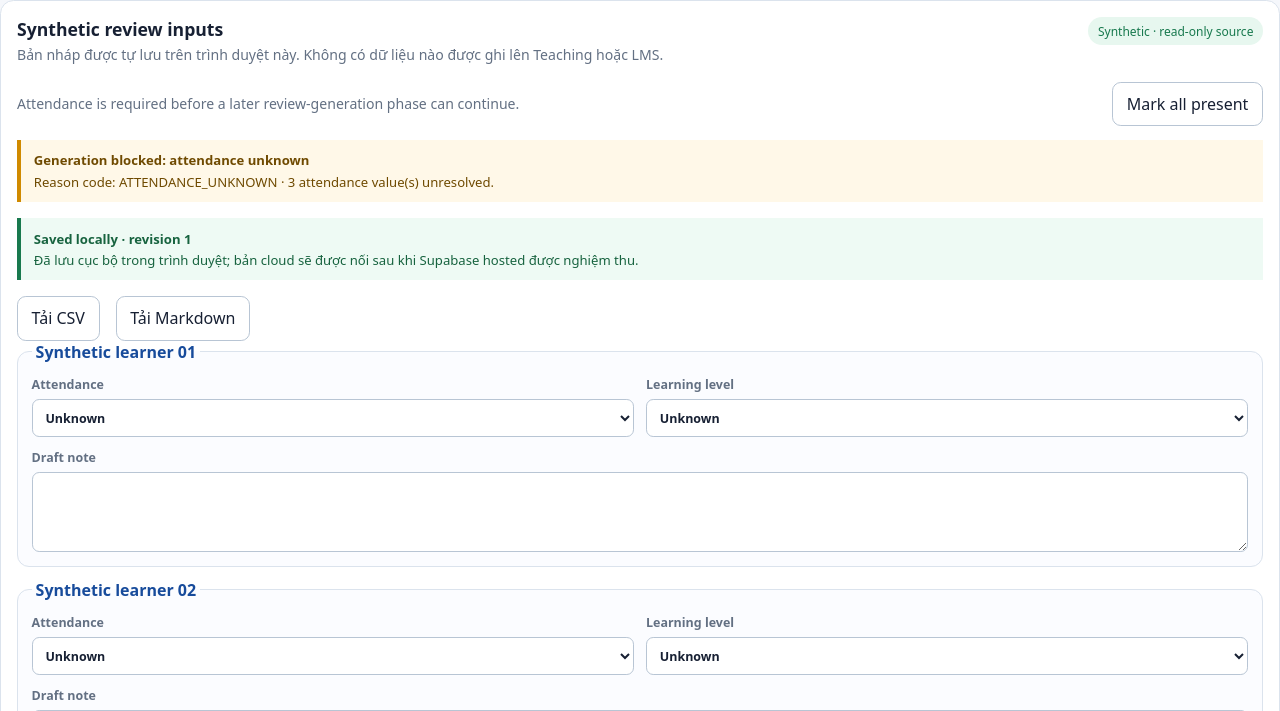
Synthetic review inputs › commits incomplete attendance without opening the generation gate
Select "Developing" in the dropdown named "Synthetic learner 01 level". click: (947, 418)
box: [646, 399, 1248, 438]
Wait 300 ms
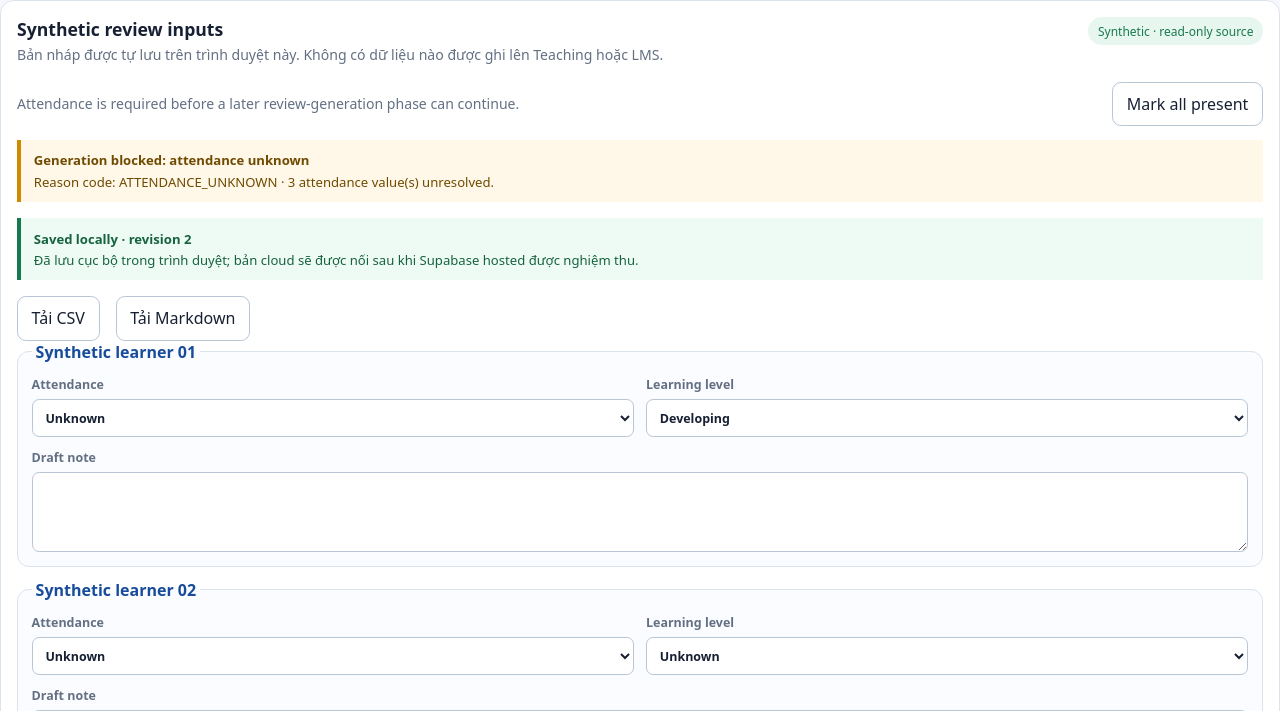
Check: the text "Generation blocked: attendance unknown" is shown, box [34, 151, 309, 169]
Check: the text "Saved locally · revision 2" is shown, box [34, 230, 191, 248]
